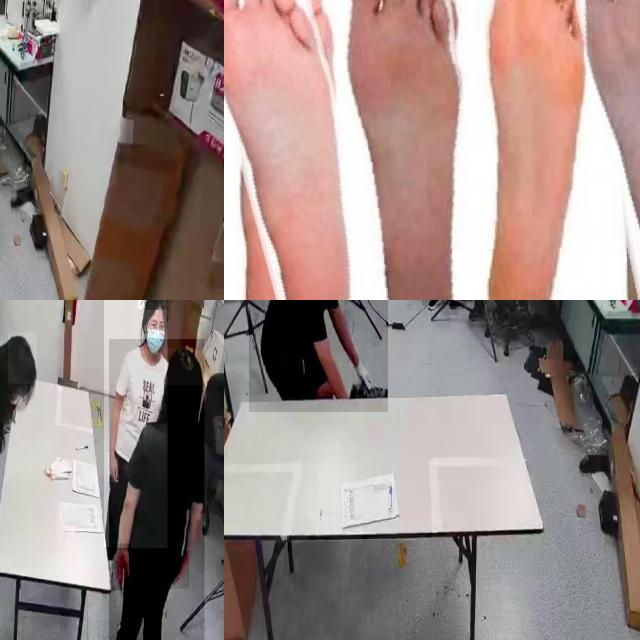Barefoots: (338, 0, 477, 300), (224, 0, 361, 300), (475, 0, 583, 300), (581, 0, 640, 300)
face_mask: (147, 303, 167, 355)
hand_glove: (353, 354, 377, 398)
hand_noglove: (111, 544, 131, 592), (167, 550, 190, 590), (108, 452, 120, 483)
head_nohelmet: (164, 348, 204, 386), (8, 333, 37, 384), (143, 300, 168, 310)
person: (109, 338, 205, 640), (249, 300, 388, 413), (104, 300, 167, 548)
shoes: (426, 300, 444, 311)
